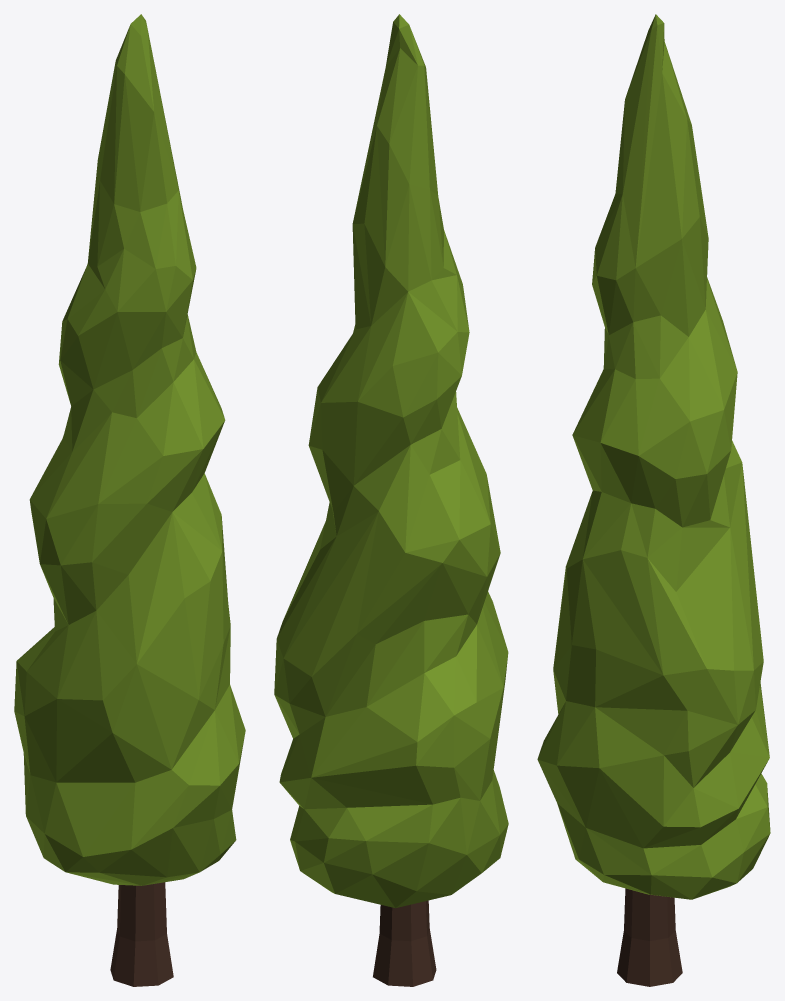
The model's file is SM_tree_greek_05.fbx.
3 renders of one model, left to right at view 1: azimuth 30°, elevation 25°; view 2: azimuth 150°, elevation 25°; view 3: azimuth 270°, elevation 25°, orthographic.
Parts seen in each view (by area): view 1: Cylinder006; view 2: Cylinder006; view 3: Cylinder006.
Boxes of the visible parts, x1=… form: Cylinder006: x1=14, y1=14, x2=245, y2=986; Cylinder006: x1=274, y1=14, x2=508, y2=986; Cylinder006: x1=537, y1=14, x2=770, y2=986.
Bounding box in the file's own units: 71.86 × 330 × 72.59.
